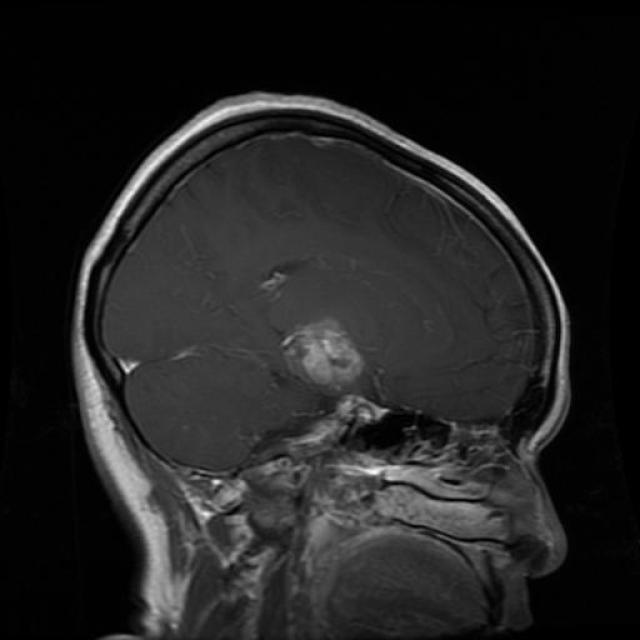glioma: (281, 320, 369, 408)
